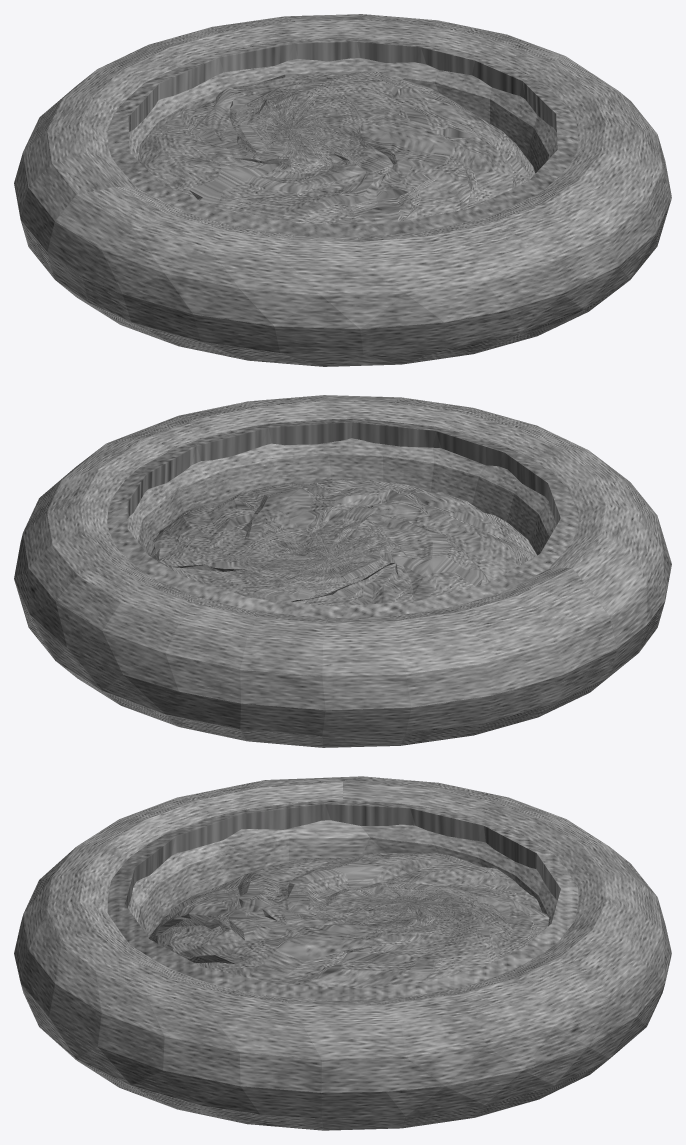
File: cat resting place.fbx
3 renders of one model, top to bottom at view 1: azimuth 30°, elevation 25°; view 2: azimuth 150°, elevation 25°; view 3: azimuth 270°, elevation 25°, orthographic.
Parts seen in each view (by area): view 1: Cat Bed; view 2: Cat Bed; view 3: Cat Bed.
Part boxes in pixels (x1=…): Cat Bed: x1=14, y1=14, x2=671, y2=366; Cat Bed: x1=14, y1=395, x2=671, y2=747; Cat Bed: x1=14, y1=776, x2=671, y2=1130.
Bounding box in the file's own units: 250 × 49.92 × 249.
